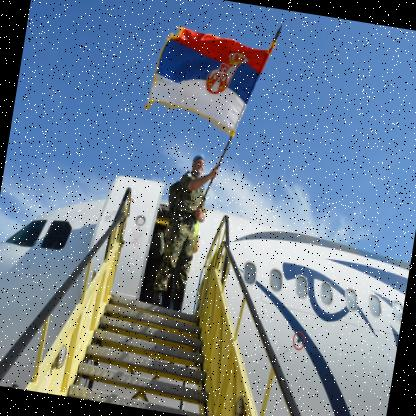rs: (141, 22, 277, 143)
